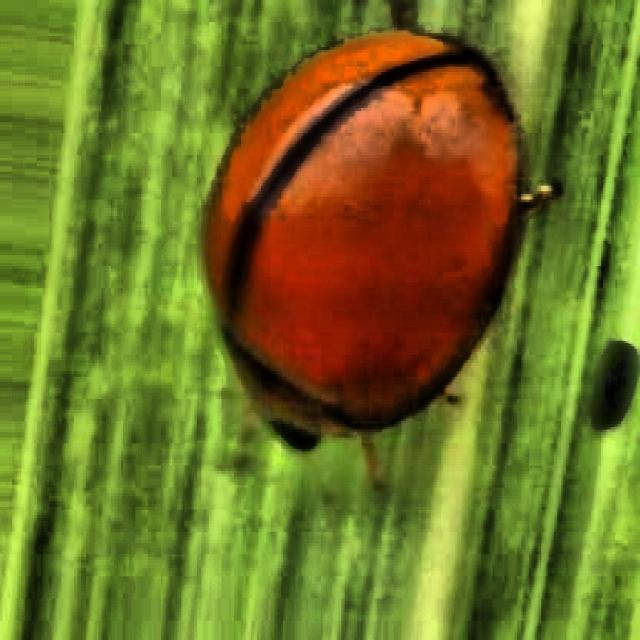Ladybug: (149, 6, 577, 544)
